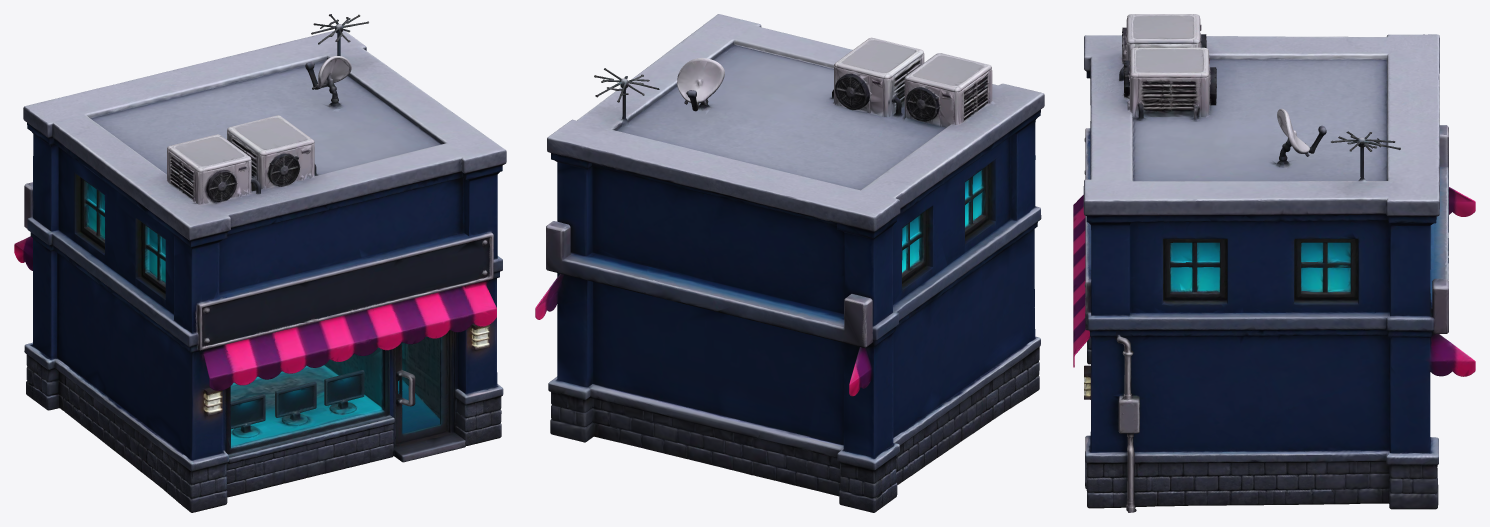
File: shop.glb
3 renders of one model, left to right at view 1: azimuth 30°, elevation 25°; view 2: azimuth 150°, elevation 25°; view 3: azimuth 270°, elevation 25°, orthographic. The views are drawn at different scales.
Parts seen in each view (by area): view 1: tripo_node_f39bdae1-4ec2-44f2-8a93-046cca20442d; view 2: tripo_node_f39bdae1-4ec2-44f2-8a93-046cca20442d; view 3: tripo_node_f39bdae1-4ec2-44f2-8a93-046cca20442d.
Part boxes in pixels (<box>): tripo_node_f39bdae1-4ec2-44f2-8a93-046cca20442d: <box>14,14,506,512</box>; tripo_node_f39bdae1-4ec2-44f2-8a93-046cca20442d: <box>535,14,1044,512</box>; tripo_node_f39bdae1-4ec2-44f2-8a93-046cca20442d: <box>1073,14,1475,512</box>.
Bounding box in the file's own units: 0.9765 × 0.9593 × 0.9789.
Materials: 1 (1 with a texture image).
